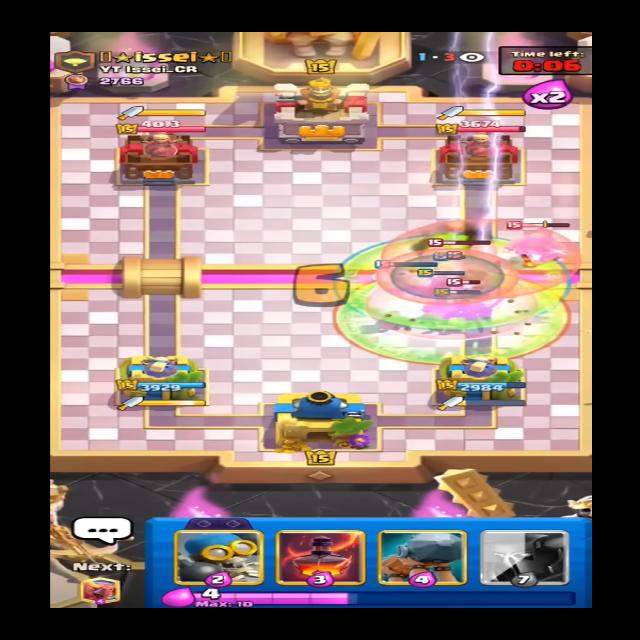goblin-curse: (331, 272, 570, 364)
goblin-demolisher: (502, 215, 574, 264)
